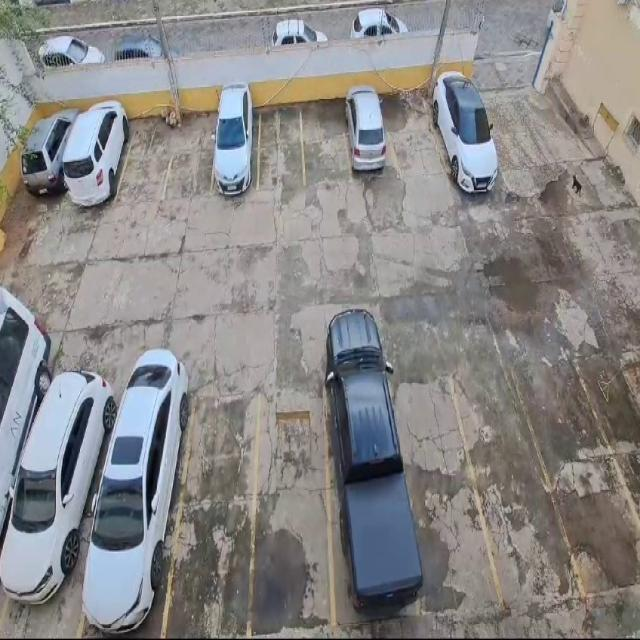empty: (451, 373, 585, 601), (514, 359, 639, 593), (389, 383, 502, 613), (163, 395, 259, 636), (249, 388, 335, 633), (378, 92, 449, 176), (116, 118, 180, 202), (162, 115, 219, 200), (299, 99, 351, 186), (257, 103, 304, 190)
notEmpty: (1, 406, 119, 635), (78, 402, 192, 634), (323, 385, 417, 623), (62, 120, 135, 209), (429, 88, 499, 180), (27, 121, 84, 210), (341, 94, 398, 180), (213, 107, 260, 196)
